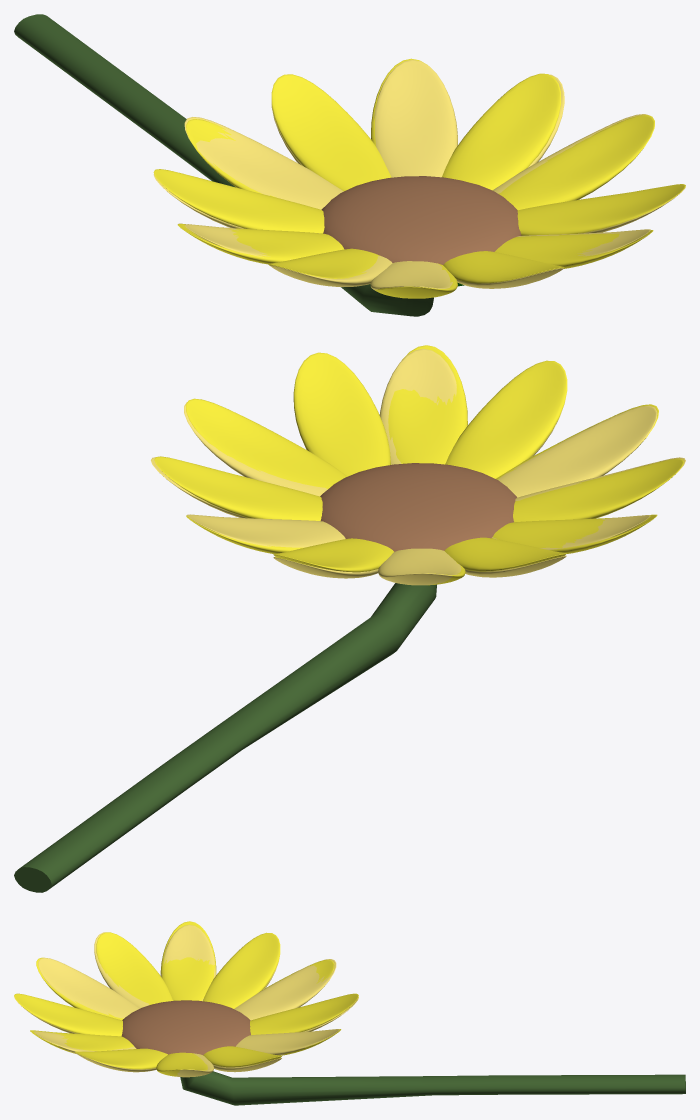
File: 太陽花.fbx
3 renders of one model, top to bottom at view 1: azimuth 30°, elevation 25°; view 2: azimuth 150°, elevation 25°; view 3: azimuth 270°, elevation 25°, orthographic. The views are drawn at different scales.
Parts seen in each view (by area): view 1: Sphere167, Cylinder014, Sphere169, Sphere313, Sphere210, Sphere168, Sphere315, Sphere172, Sphere306, Sphere173, Sphere177, Sphere176 (+9 smaller); view 2: Cylinder014, Sphere167, Sphere306, Sphere176, Sphere307, Sphere168, Sphere169, Sphere224, Sphere177, Sphere313, Sphere309, Sphere173 (+5 smaller); view 3: Cylinder014, Sphere167, Sphere172, Sphere224, Sphere307, Sphere315, Sphere176, Sphere210, Sphere173, Sphere313, Sphere317, Sphere306 (+9 smaller).
Part boxes in pixels (bbox=[...]): Sphere167: bbox=[321, 176, 521, 264]; Cylinder014: bbox=[14, 14, 433, 316]; Sphere169: bbox=[442, 73, 560, 190]; Sphere313: bbox=[373, 59, 457, 177]; Sphere210: bbox=[271, 74, 391, 191]; Sphere168: bbox=[498, 115, 654, 210]; Sphere315: bbox=[184, 117, 343, 209]; Sphere172: bbox=[153, 169, 324, 233]; Sphere306: bbox=[517, 184, 685, 235]; Sphere173: bbox=[177, 223, 344, 264]; Sphere177: bbox=[495, 229, 653, 268]; Sphere176: bbox=[443, 251, 563, 283]; Cylinder014: bbox=[14, 583, 436, 892]; Sphere167: bbox=[320, 463, 516, 551]; Sphere306: bbox=[293, 352, 390, 476]; Sphere176: bbox=[445, 360, 567, 478]; Sphere307: bbox=[498, 405, 657, 497]; Sphere168: bbox=[185, 398, 347, 488]; Sphere169: bbox=[154, 456, 322, 520]; Sphere224: bbox=[513, 458, 684, 522]; Sphere177: bbox=[388, 345, 467, 464]; Sphere313: bbox=[187, 514, 345, 547]; Sphere309: bbox=[379, 348, 456, 464]; Sphere173: bbox=[492, 514, 657, 553]; Cylinder014: bbox=[180, 1071, 685, 1105]; Sphere167: bbox=[121, 1000, 250, 1054]; Sphere172: bbox=[203, 932, 280, 1008]; Sphere224: bbox=[96, 932, 172, 1004]; Sphere307: bbox=[38, 957, 139, 1018]; Sphere315: bbox=[234, 959, 336, 1020]; Sphere176: bbox=[14, 993, 122, 1036]; Sphere210: bbox=[250, 993, 358, 1034]; Sphere173: bbox=[160, 921, 216, 1001]; Sphere313: bbox=[236, 1029, 339, 1055]; Sphere317: bbox=[160, 924, 216, 1000]; Sphere306: bbox=[75, 1048, 167, 1069].
Bounding box in the file's own units: 696 × 238 × 1336.
